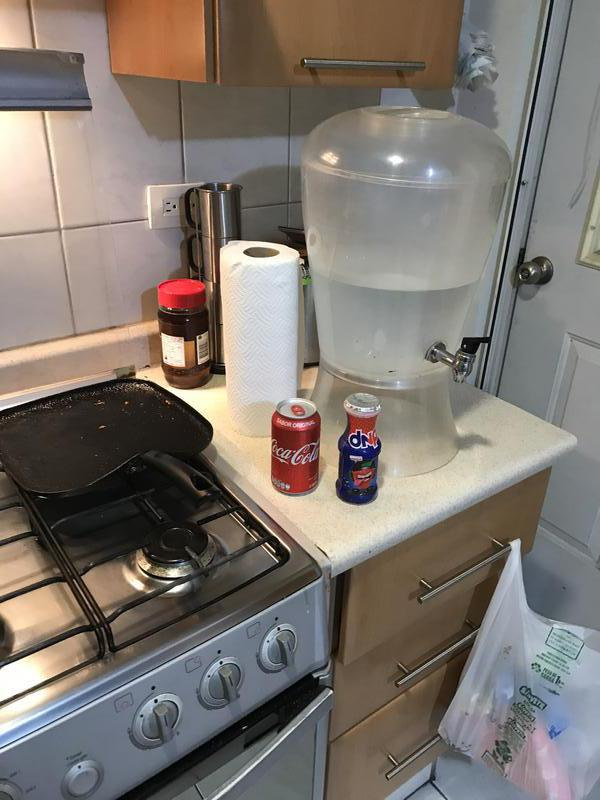coca_cola: (270, 398, 322, 497)
danup: (340, 389, 381, 509)
